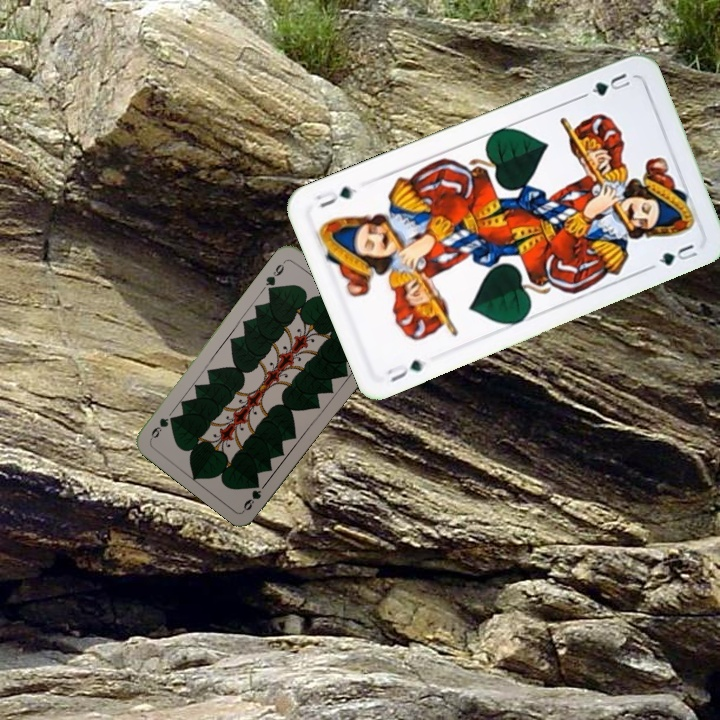G9: (262, 260, 287, 293), (239, 486, 264, 513)
GU: (382, 355, 430, 385), (587, 68, 633, 99)
